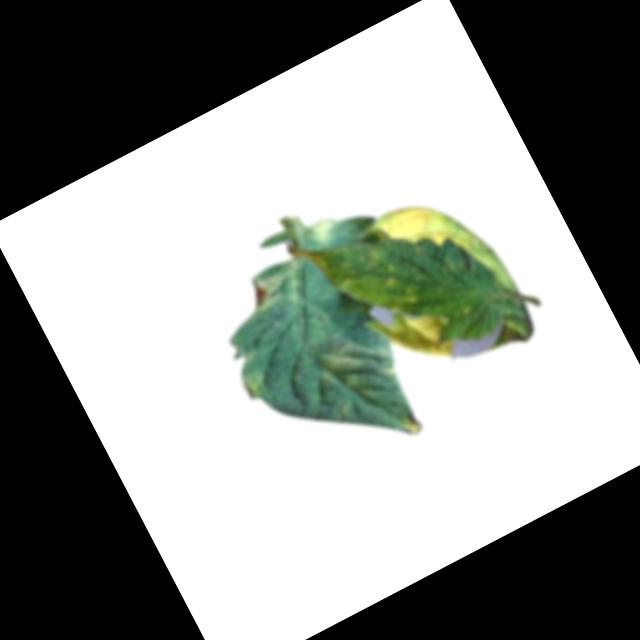Leaf_Mold: (310, 223, 409, 331), (371, 183, 475, 283), (383, 297, 457, 376), (312, 338, 369, 393), (242, 263, 296, 315), (236, 365, 274, 405), (305, 213, 339, 248)
